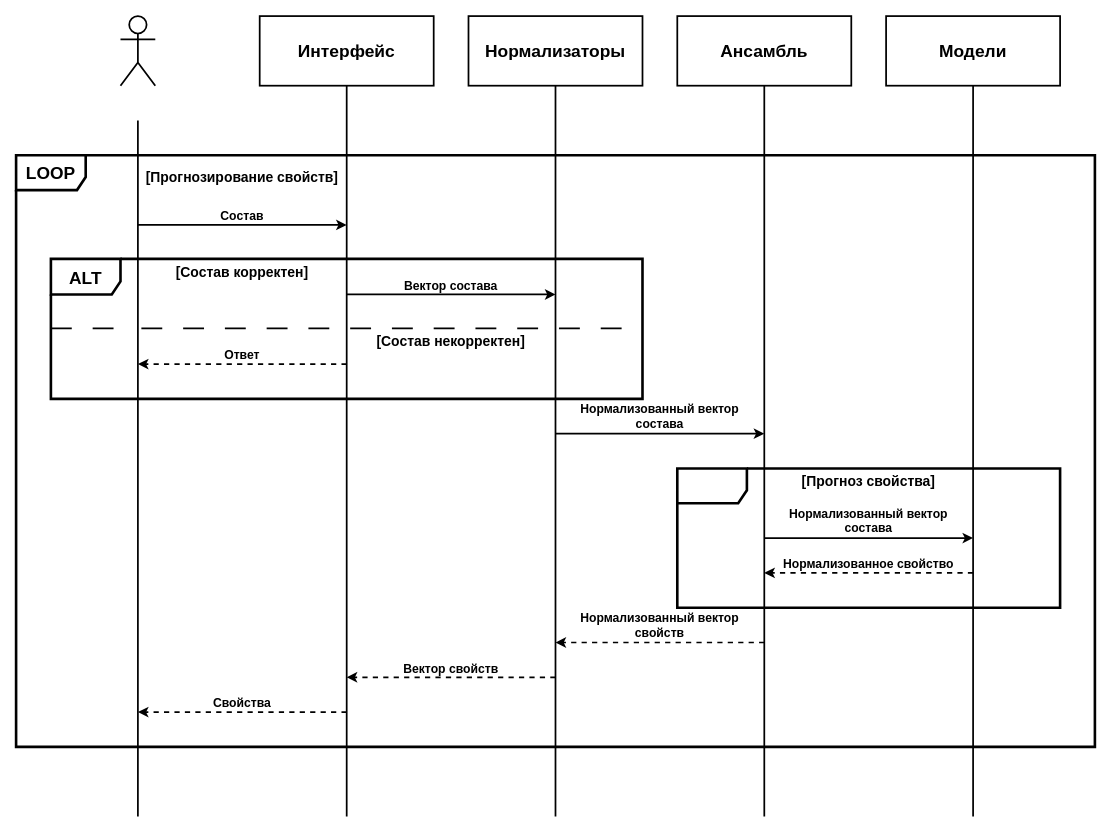
The diagram is 1111 pixels wide and 833 high, and some of its shapes have lost their labels. Here are the shapes that lost their labels. From the top down, the box of each, then its label:
(119, 15, 156, 86): Исследователь
(676, 467, 1061, 609): LOOP (1, 8)
